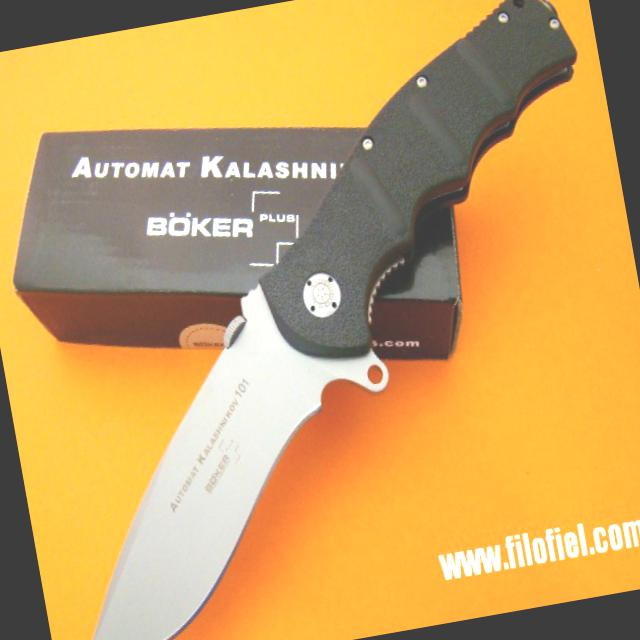knife: (22, 279, 379, 639)
